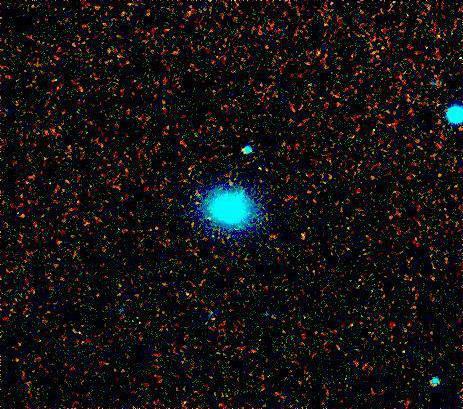star: (287, 221, 317, 251)
